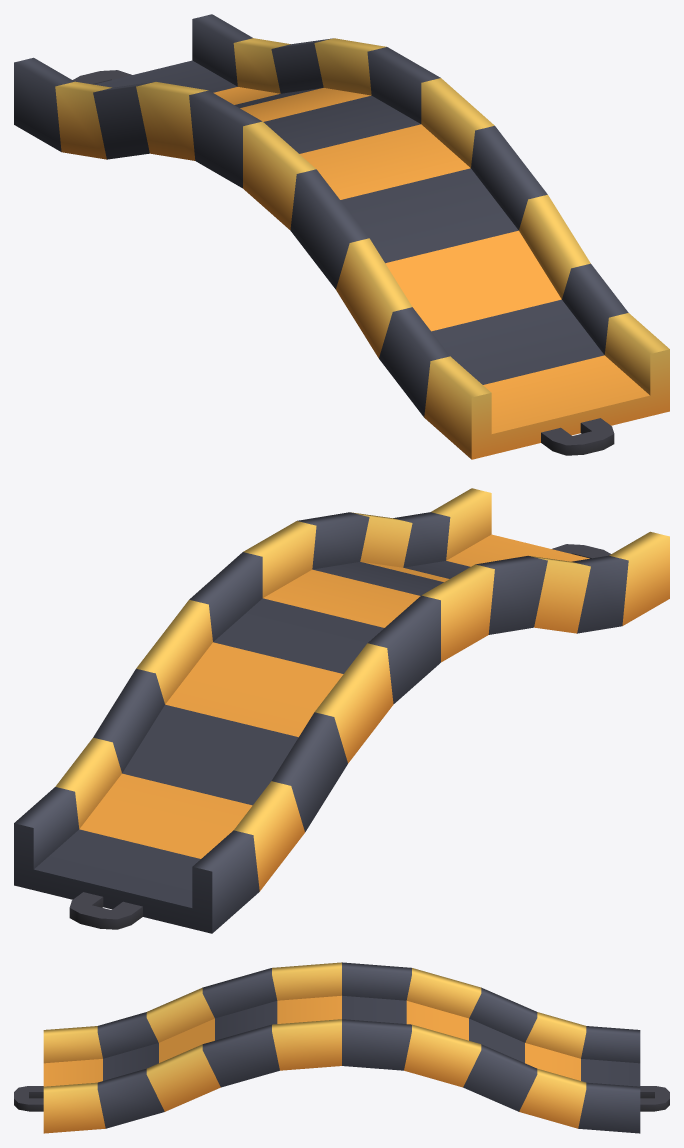
Rendered from track-striped-narrow-straight-bump-up.fbx.
The picture shows the model from 3 angles, top to bottom: view 1: azimuth 30°, elevation 25°; view 2: azimuth 150°, elevation 25°; view 3: azimuth 270°, elevation 25°; orthographic projection. The views are drawn at different scales.
Visible parts, largest first — view 1: track-striped-narrow-straight-bump-up; view 2: track-striped-narrow-straight-bump-up; view 3: track-striped-narrow-straight-bump-up.
Part boxes in pixels (box(x1,y1,x2,y2)): track-striped-narrow-straight-bump-up: box(14, 14, 669, 459); track-striped-narrow-straight-bump-up: box(14, 488, 669, 933); track-striped-narrow-straight-bump-up: box(14, 962, 669, 1133).
Size of the model in its own units: 100 by 80 by 440.
